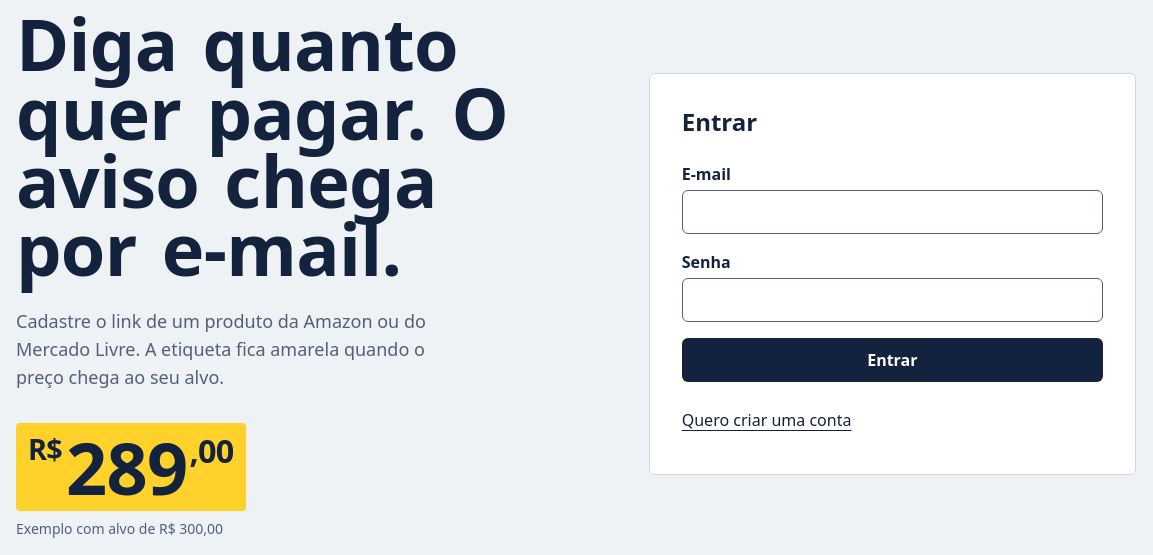
login com senha errada explica o problema
Type "ana@exemplo.com" into the field labelled "E-mail" at (892, 212), box top-left (682, 190), bottom-right (1103, 234)
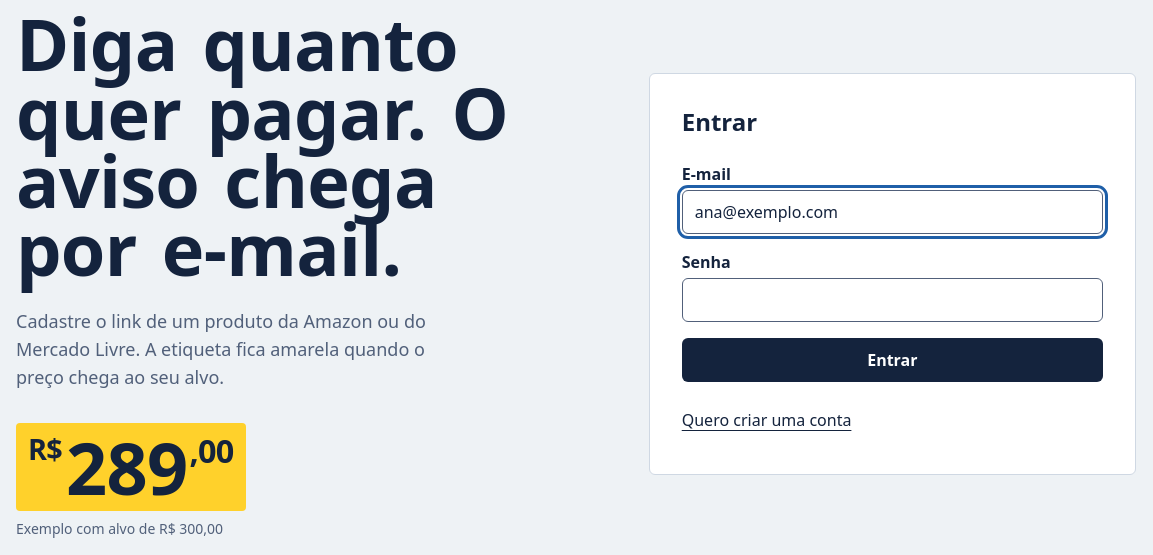
Type "errada" into the password field labelled "Senha" at (892, 300), box top-left (682, 278), bottom-right (1103, 322)
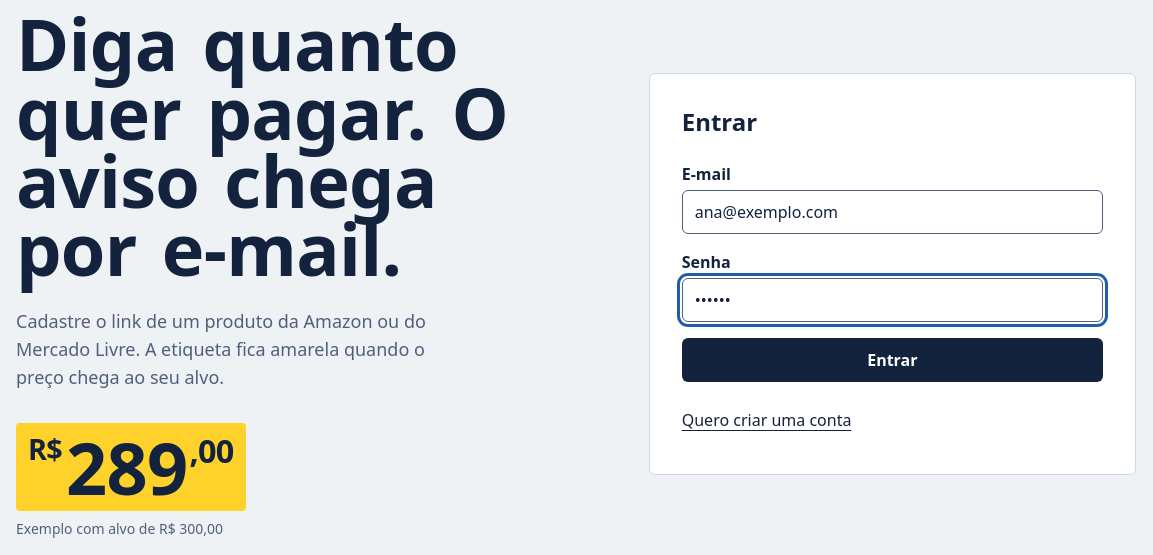
Click the button "Entrar" at (892, 360), box top-left (682, 338), bottom-right (1103, 382)
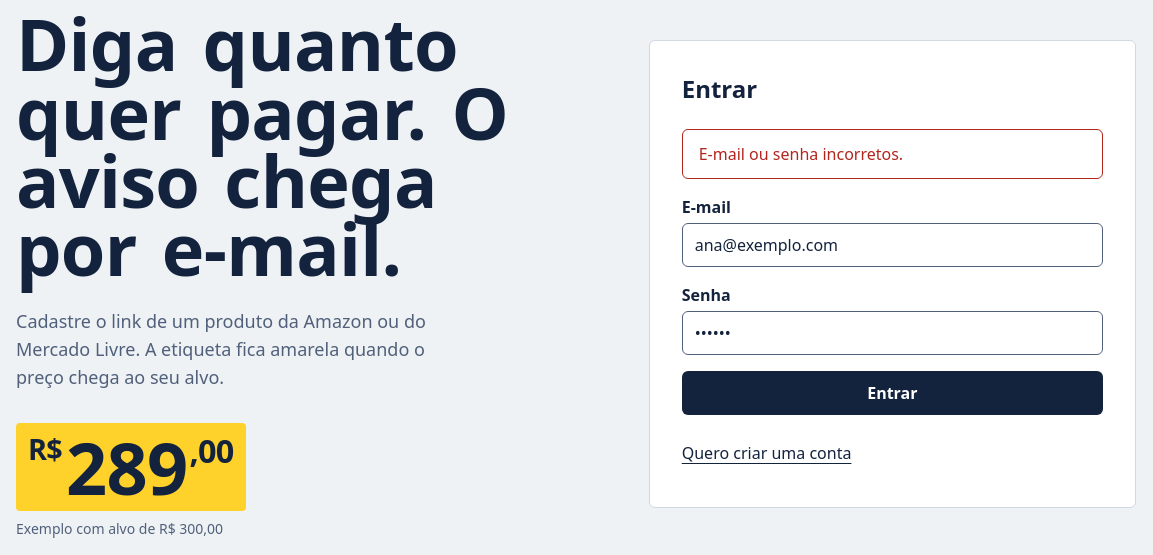
Expected: the message reads "E-mail ou senha incorretos.", top-left (699, 143), bottom-right (903, 165)
